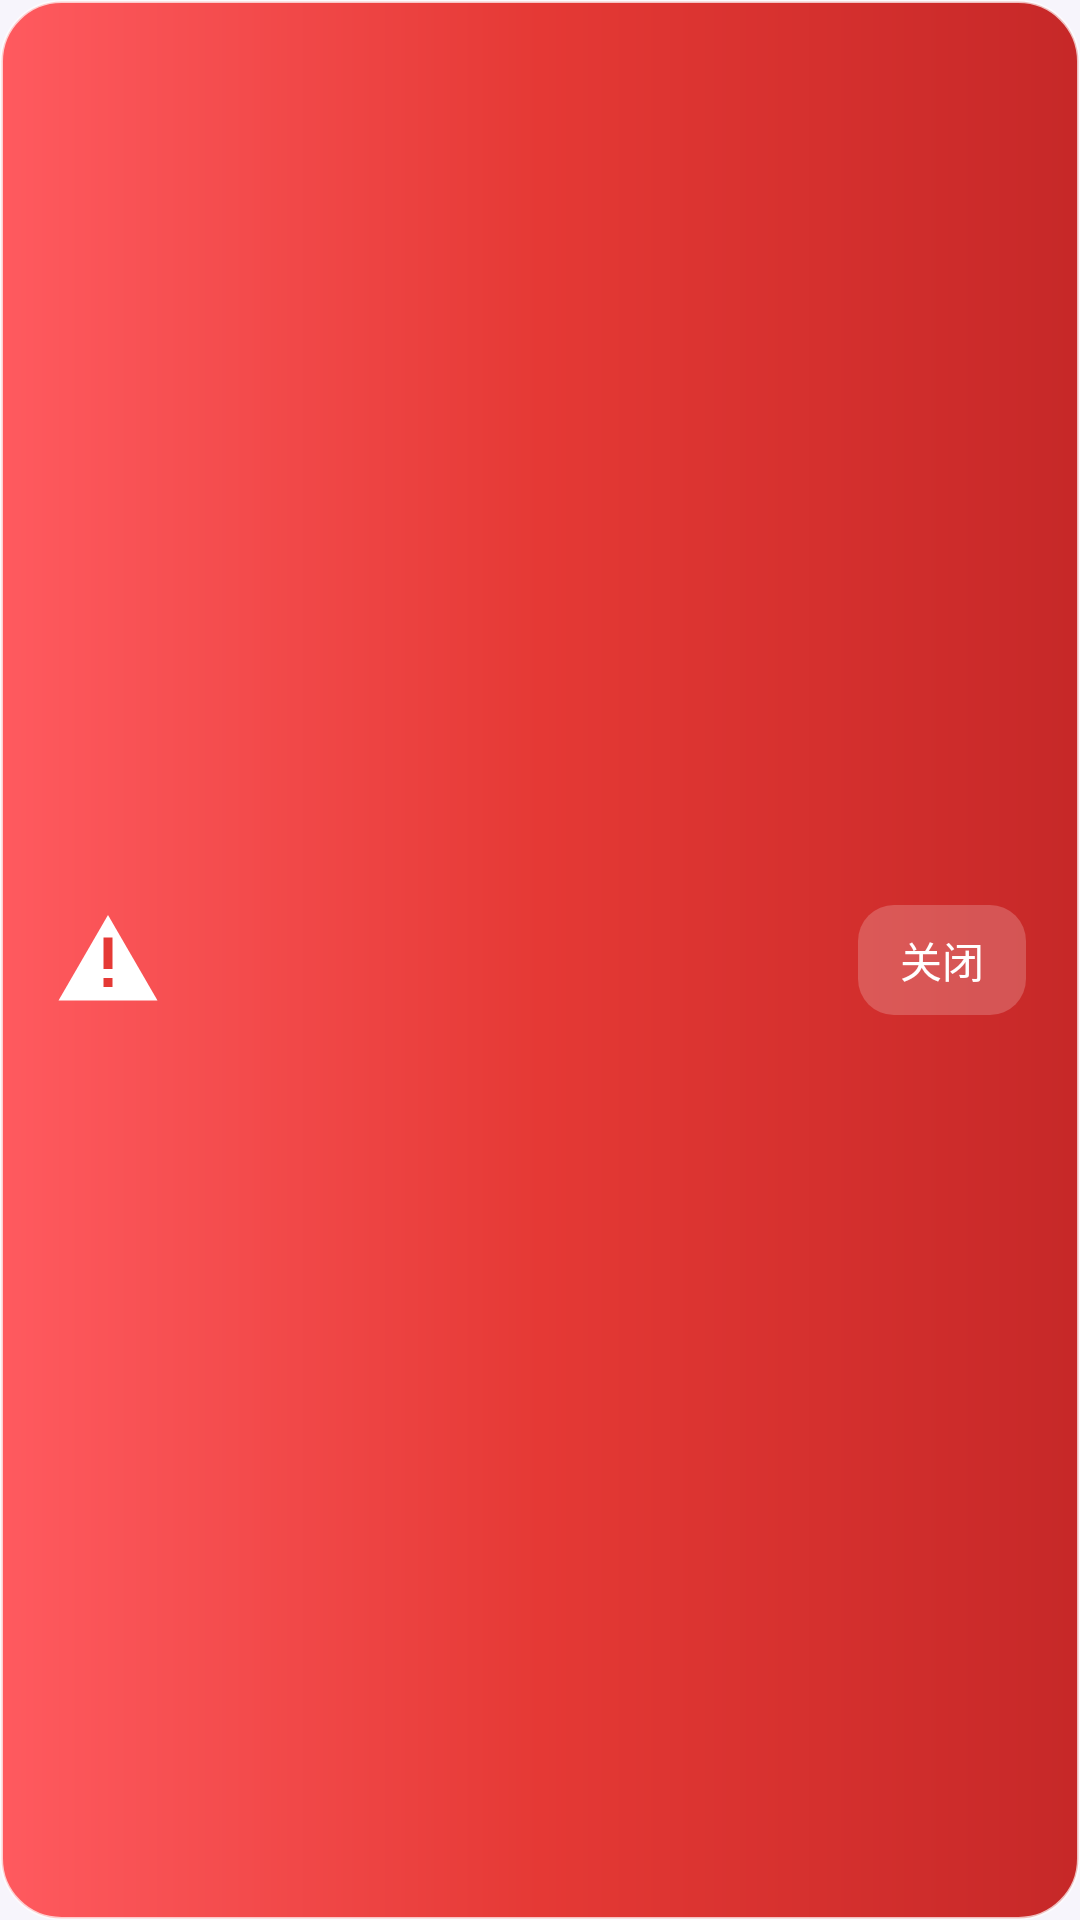

Where icons sit on this 1080 x 1920 app screen, as rect(x1, y1, x2, y2):
警告: rect(58, 915, 157, 1001)
